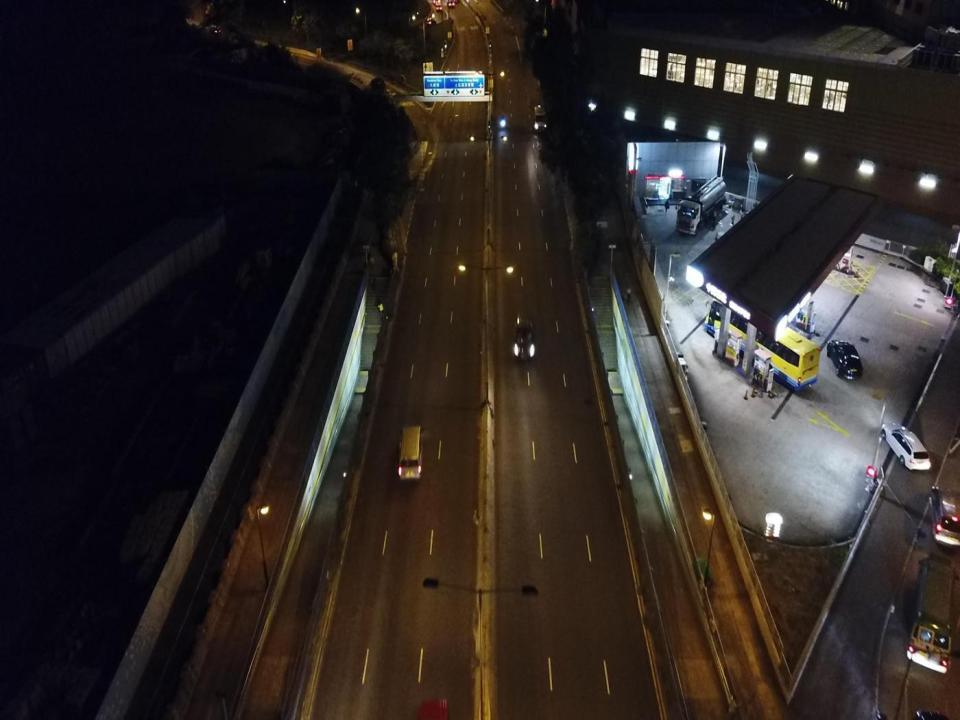bus: (705, 296, 820, 392)
car: (881, 422, 931, 471), (930, 485, 960, 548), (826, 339, 863, 379), (513, 319, 535, 362), (210, 26, 221, 34), (427, 18, 436, 25), (436, 4, 442, 11), (447, 0, 454, 6)
truck: (676, 175, 726, 236), (534, 106, 547, 132)
van: (906, 553, 960, 674), (398, 424, 423, 481)
